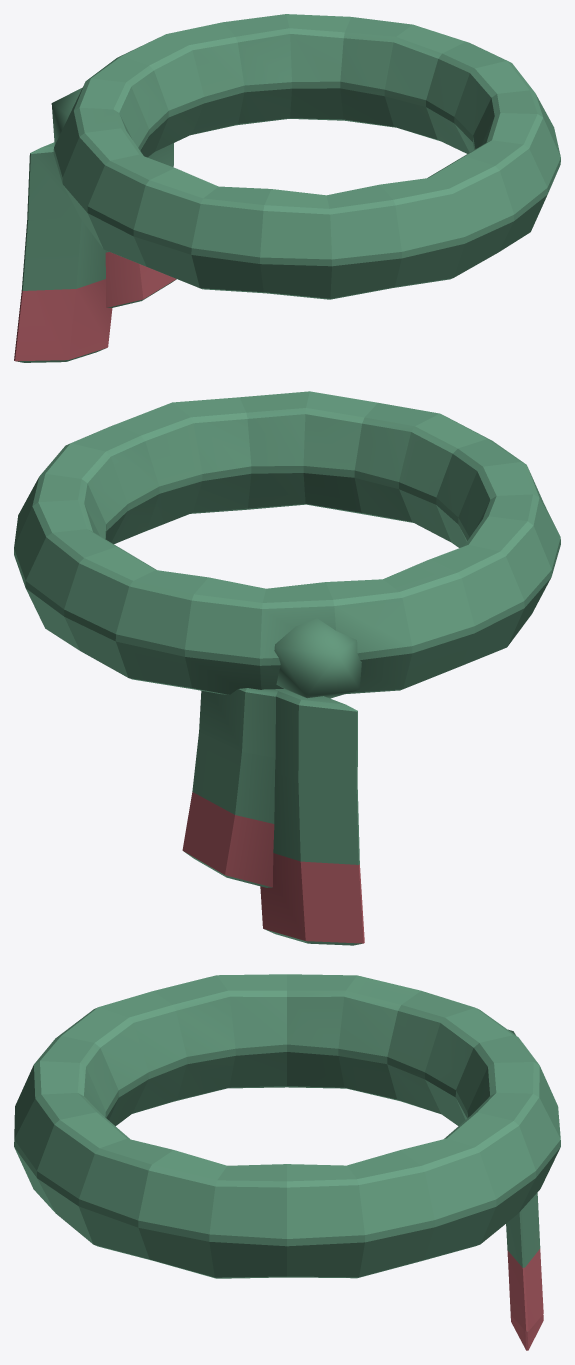
Rendered from resident_scarf_green.glb.
3 renders of one model, top to bottom at view 1: azimuth 30°, elevation 25°; view 2: azimuth 150°, elevation 25°; view 3: azimuth 270°, elevation 25°, orthographic. The views are drawn at different scales.
Size of the model in its own units: 1.51 by 0.9858 by 1.5.
